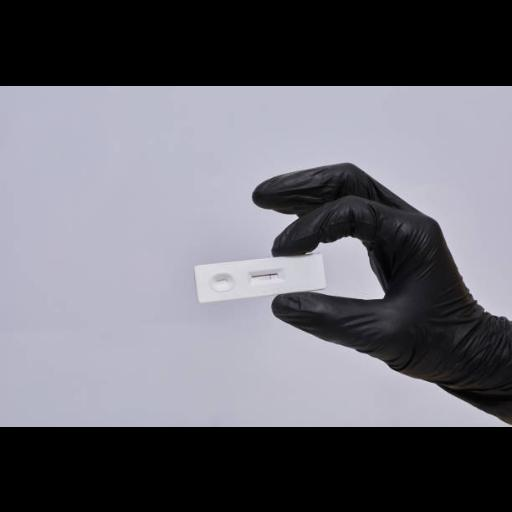Neg: (194, 253, 327, 303)
